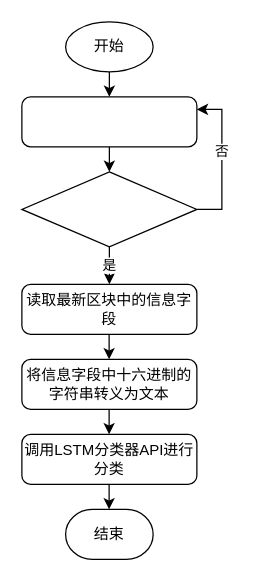
The diagram is 254 pixels wide and 581 high, and some of its shapes have lost their labels. The shapes that lost their labels are listed below. From the top down, each one's centre as x and y in pixels, then its label:
the point at 109,121: 读取节点最新区块块高度
the point at 109,209: 是否存在新增区块
